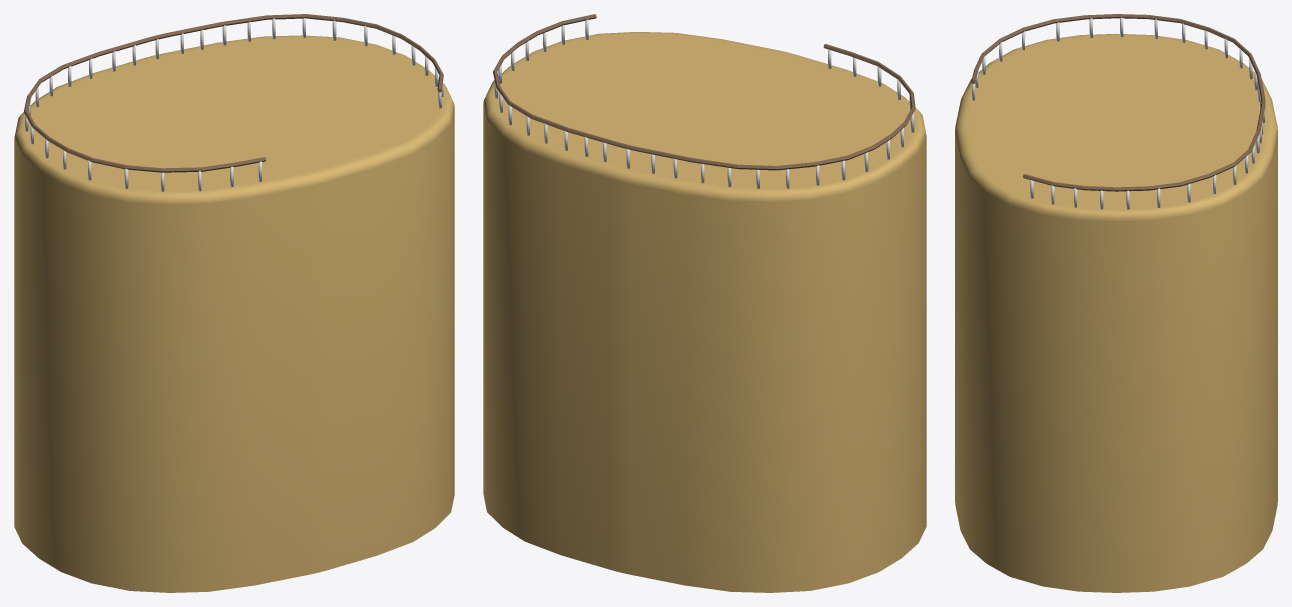
File: Map_01_Field.fbx
3 renders of one model, left to right at view 1: azimuth 30°, elevation 25°; view 2: azimuth 150°, elevation 25°; view 3: azimuth 270°, elevation 25°, orthographic. The views are drawn at different scales.
Visible parts, largest first — view 1: Map_Land_01_Field; view 2: Map_Land_01_Field; view 3: Map_Land_01_Field.
Boxes of the visible parts, x1,y1,x2,y2 form: Map_Land_01_Field: [14, 14, 454, 592]; Map_Land_01_Field: [483, 14, 926, 592]; Map_Land_01_Field: [955, 14, 1277, 592].
Bounding box in the file's own units: 39.64 × 40.59 × 29.64.
